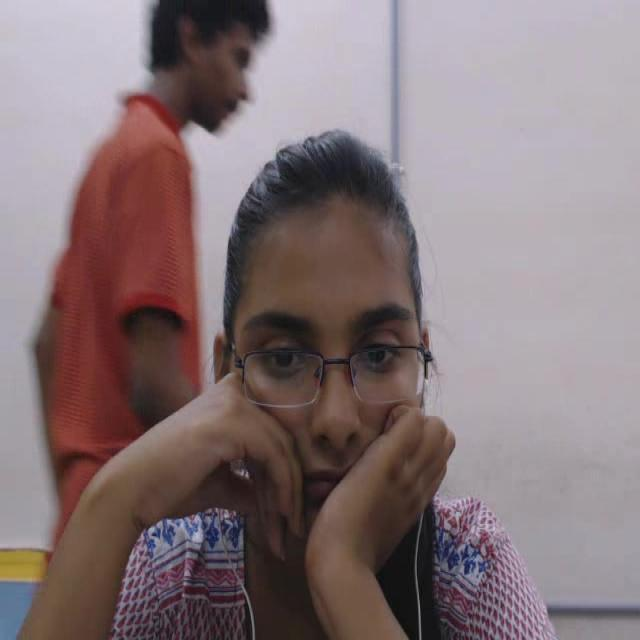Bored: (204, 138, 457, 602)
